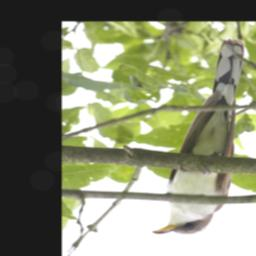Cuckoo: (150, 38, 244, 235)
